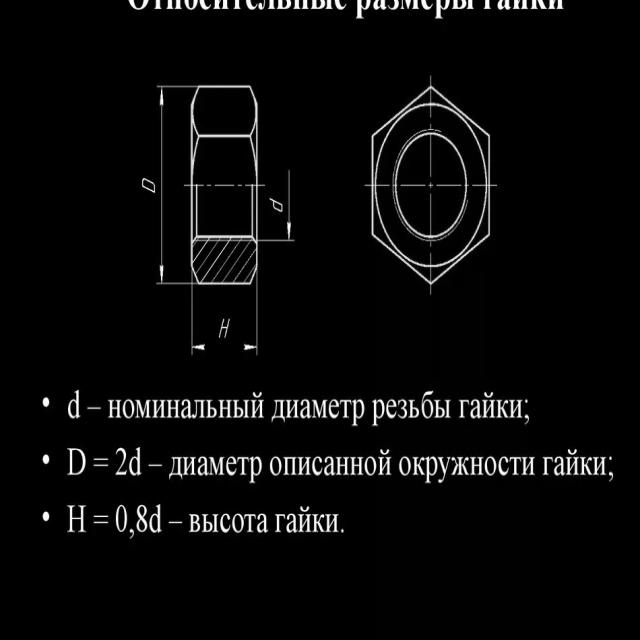marking_line: (157, 89, 167, 280), (194, 342, 255, 355), (286, 171, 292, 238)
numeric: (134, 501, 148, 537), (114, 446, 129, 478), (116, 502, 127, 539)
special_symbol: (91, 454, 113, 472), (90, 514, 112, 526)
